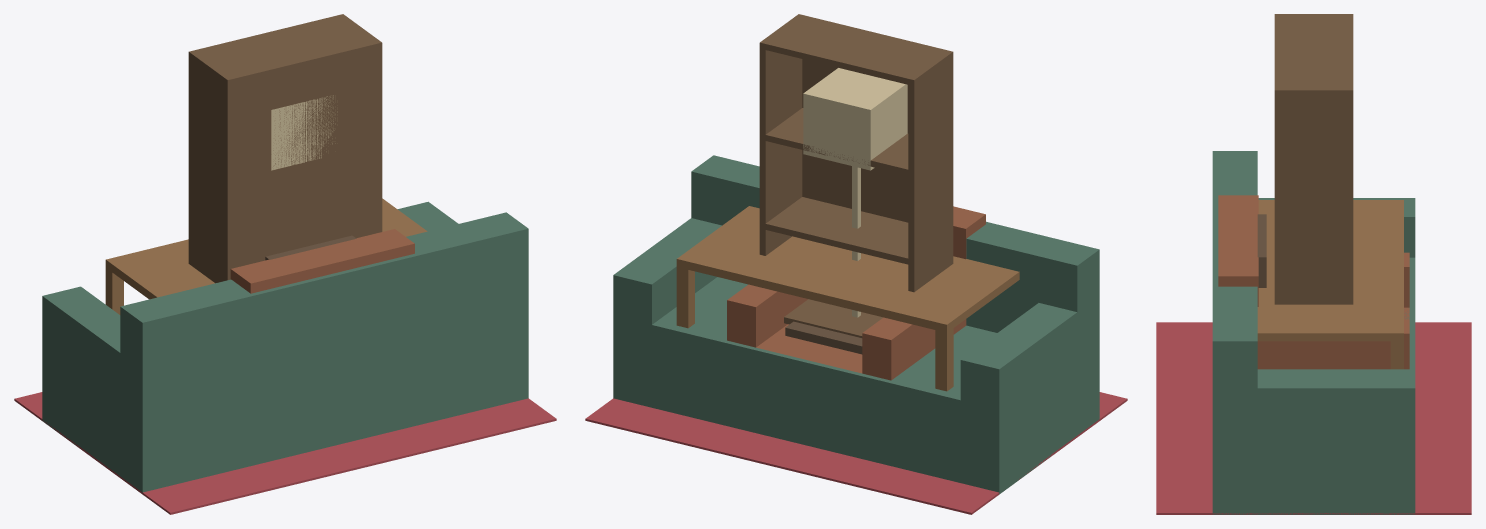
Rendered from furniture.gltf.
The picture shows the model from 3 angles, left to right: view 1: azimuth 30°, elevation 25°; view 2: azimuth 150°, elevation 25°; view 3: azimuth 270°, elevation 25°; orthographic projection.
Visible parts, largest first — view 1: sofa-1, sofa-0, shelf-2, rug-0, shelf-0, sofa-2, shelf-7, armchair-1, table-4, lamp-2, shelf-1, sofa-3 (+1 smaller); view 2: sofa-0, table-4, sofa-1, rug-0, shelf-0, lamp-2, sofa-2, shelf-1, shelf-7, shelf-2, sofa-3, shelf-5 (+10 smaller); view 3: rug-0, sofa-0, shelf-1, table-4, sofa-3, sofa-1, shelf-7, armchair-3, armchair-1, sofa-2, chair-5, table-2.
Boxes of the visible parts, bbox=[...] form: sofa-1: bbox=[120, 212, 528, 409]; sofa-0: bbox=[42, 315, 528, 492]; shelf-2: bbox=[231, 42, 376, 267]; rug-0: bbox=[14, 392, 556, 514]; shelf-0: bbox=[188, 50, 233, 283]; sofa-2: bbox=[42, 286, 120, 392]; shelf-7: bbox=[195, 15, 373, 76]; armchair-1: bbox=[230, 229, 414, 293]; table-4: bbox=[105, 198, 427, 299]; lamp-2: bbox=[271, 95, 337, 170]; shelf-1: bbox=[338, 14, 382, 233]; sofa-3: bbox=[397, 201, 458, 231]; sofa-0: bbox=[613, 277, 1099, 494]; table-4: bbox=[676, 206, 1019, 332]; sofa-1: bbox=[691, 155, 1099, 352]; rug-0: bbox=[585, 392, 1127, 514]; shelf-0: bbox=[908, 50, 953, 292]; lamp-2: bbox=[803, 68, 907, 170]; sofa-2: bbox=[960, 303, 1077, 409]; shelf-1: bbox=[759, 14, 803, 255]; shelf-7: bbox=[765, 17, 944, 84]; shelf-2: bbox=[802, 15, 946, 222]; sofa-3: bbox=[613, 218, 721, 324]; shelf-5: bbox=[765, 197, 908, 264]; rug-0: bbox=[1156, 322, 1471, 514]; sofa-0: bbox=[1212, 257, 1415, 514]; shelf-1: bbox=[1274, 87, 1353, 304]; table-4: bbox=[1257, 200, 1403, 341]; sofa-3: bbox=[1257, 369, 1415, 429]; sofa-1: bbox=[1212, 151, 1257, 429]; shelf-7: bbox=[1279, 17, 1353, 87]; armchair-3: bbox=[1258, 319, 1409, 369]; armchair-1: bbox=[1218, 195, 1258, 369]; sofa-2: bbox=[1258, 198, 1415, 257]; chair-5: bbox=[1257, 214, 1266, 287]; table-2: bbox=[1390, 341, 1403, 369].
Size of the model in its own units: 2 by 1.8 by 1.4.
